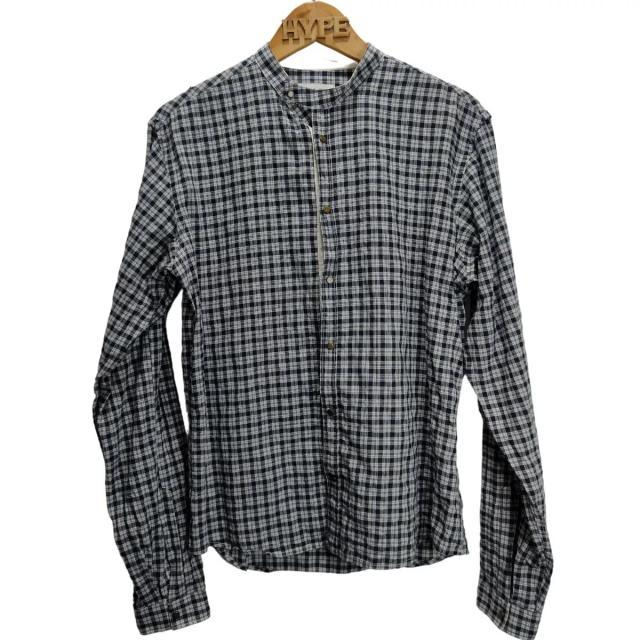long sleeve shirt: (88, 38, 554, 640)
